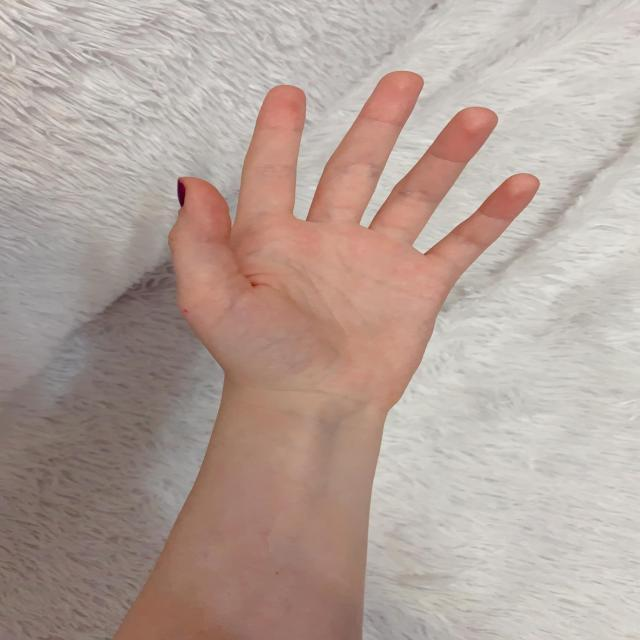Hand: (155, 67, 544, 460)
